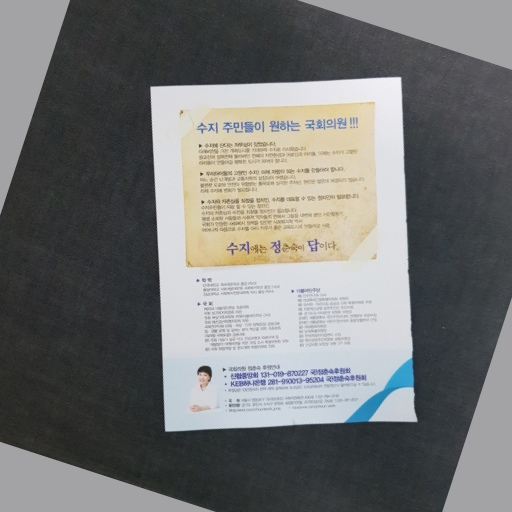Paper_2: (132, 66, 428, 437)
